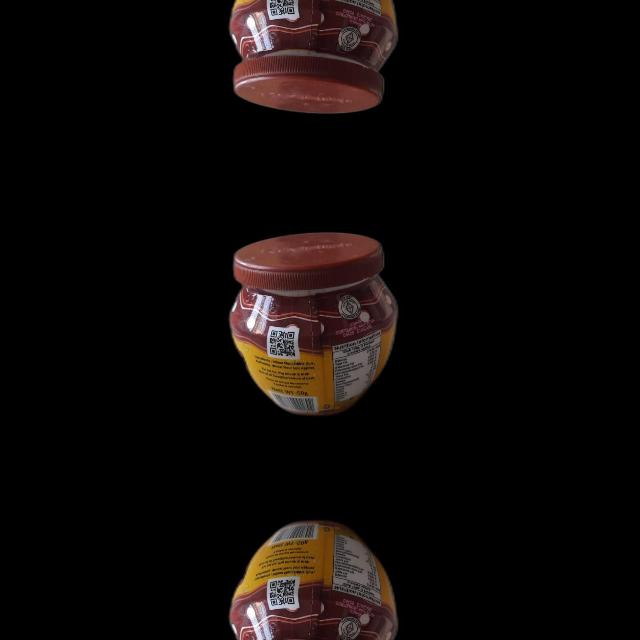Badshah Afgani Hing: (229, 230, 399, 418), (229, 517, 399, 640), (229, 0, 399, 113)
